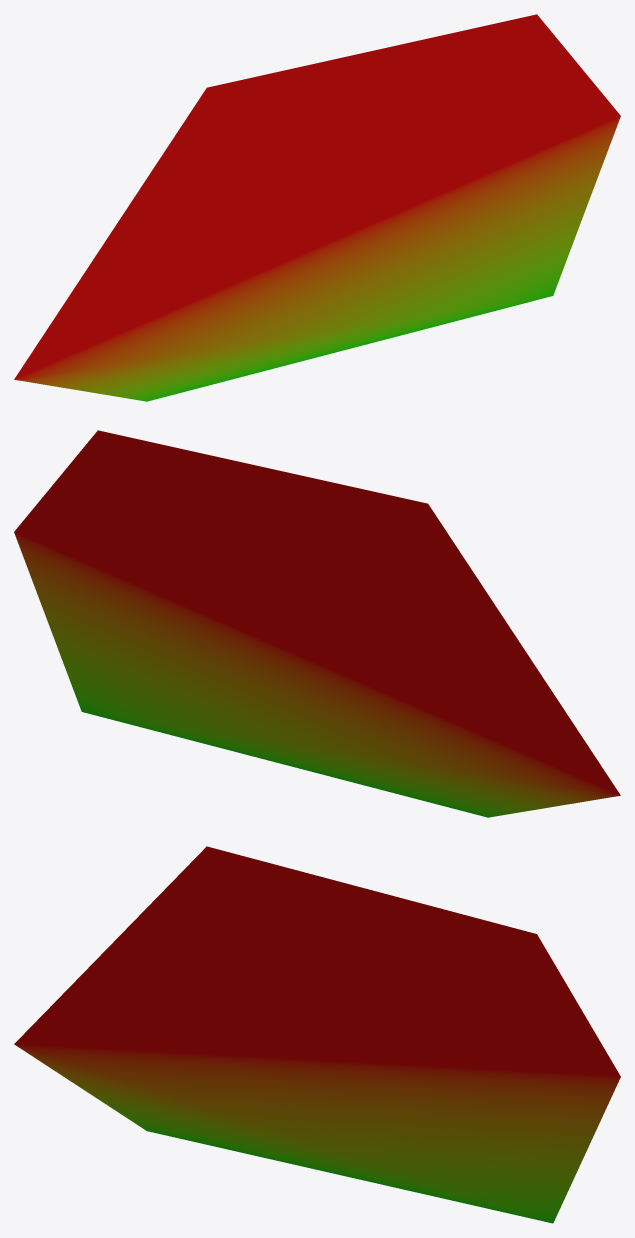
Rendered from Desert Cotton_LOD6_Var7_xeogciyqx.fbx.
3 views of the same model, one above another, from view 1: azimuth 30°, elevation 25°; view 2: azimuth 150°, elevation 25°; view 3: azimuth 330°, elevation 25° (orthographic).
Parts seen in each view (by area): view 1: _x1nb_Var7_LOD6; view 2: _x1nb_Var7_LOD6; view 3: _x1nb_Var7_LOD6.
Boxes of the visible parts, bbox=[...] form: _x1nb_Var7_LOD6: bbox=[14, 14, 620, 401]; _x1nb_Var7_LOD6: bbox=[14, 430, 620, 817]; _x1nb_Var7_LOD6: bbox=[14, 846, 620, 1223].
Size of the model in its own units: 81.99 by 38.64 by 6.3e-06.
